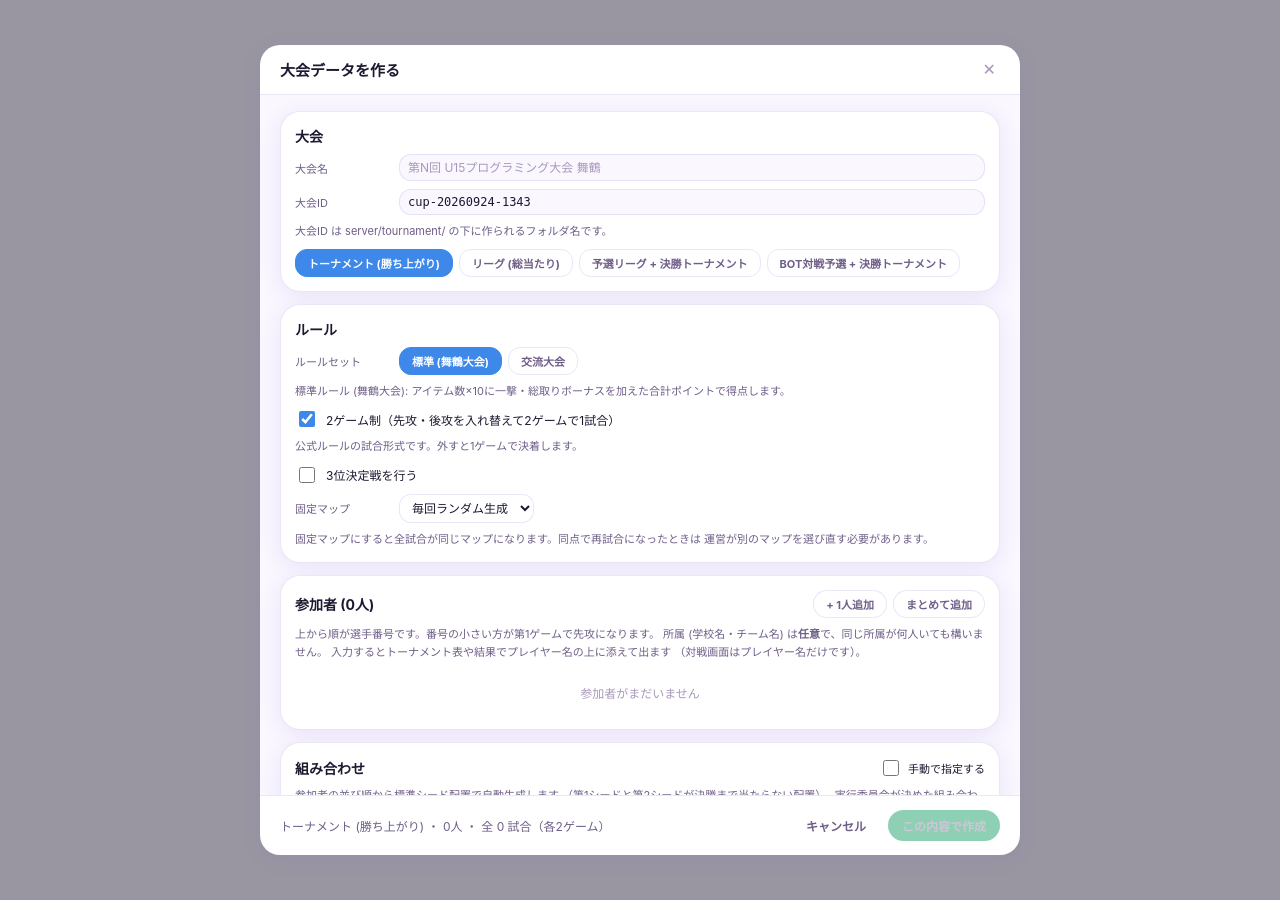
Scenario: TournamentEditorDialog — 新規作成 › プログラム由来のプレイヤー名 › 空欄の行にプログラムを選ぶと、プログラムが名乗る名前が初期値として入る
Click the button "+ 1人追加". click: (850, 604)
box: top-left (813, 590), bottom-right (887, 618)
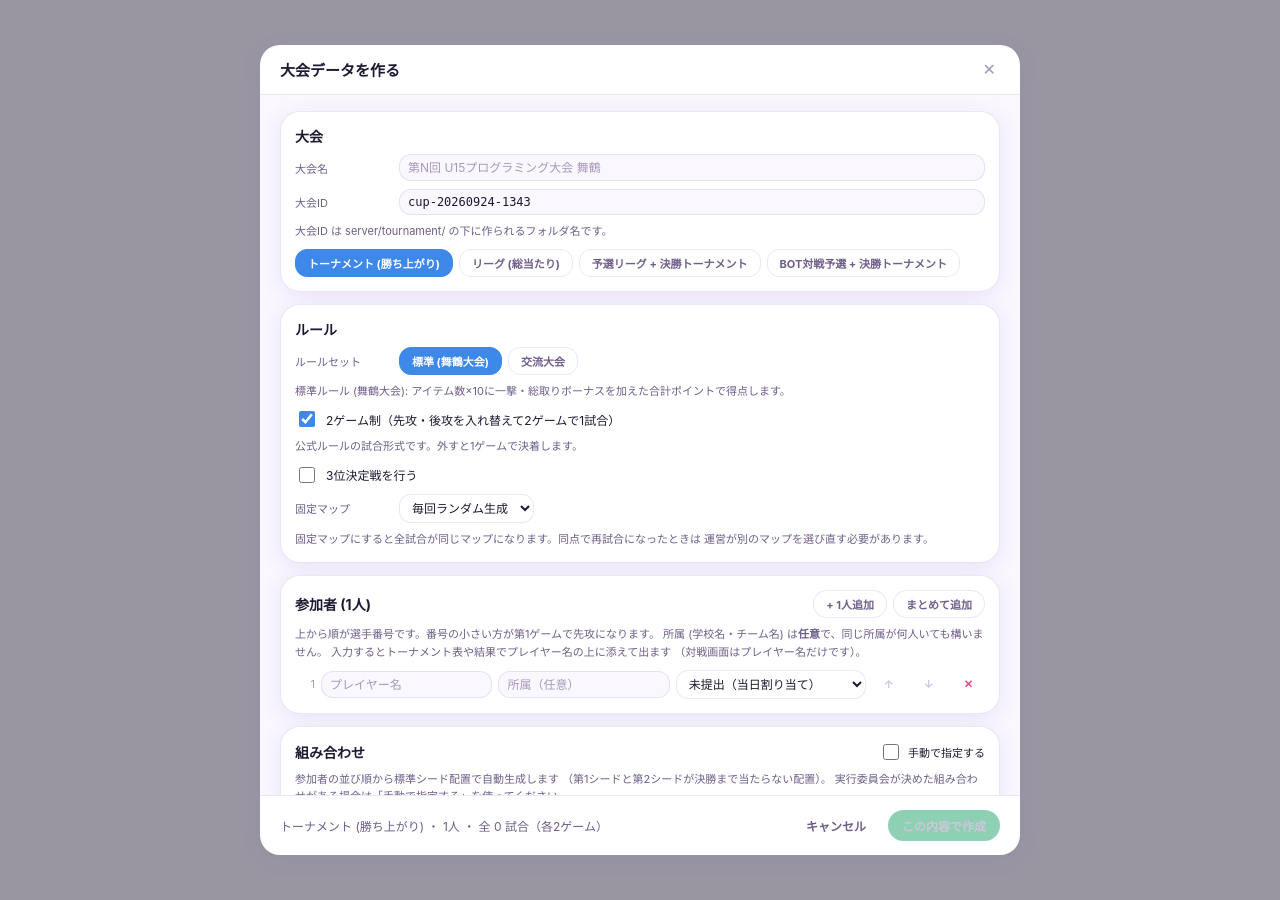
Select "舞鶴A v3" in the dropdown named "参加者1 のプログラム". click: (771, 684)
box: top-left (676, 670), bottom-right (866, 699)
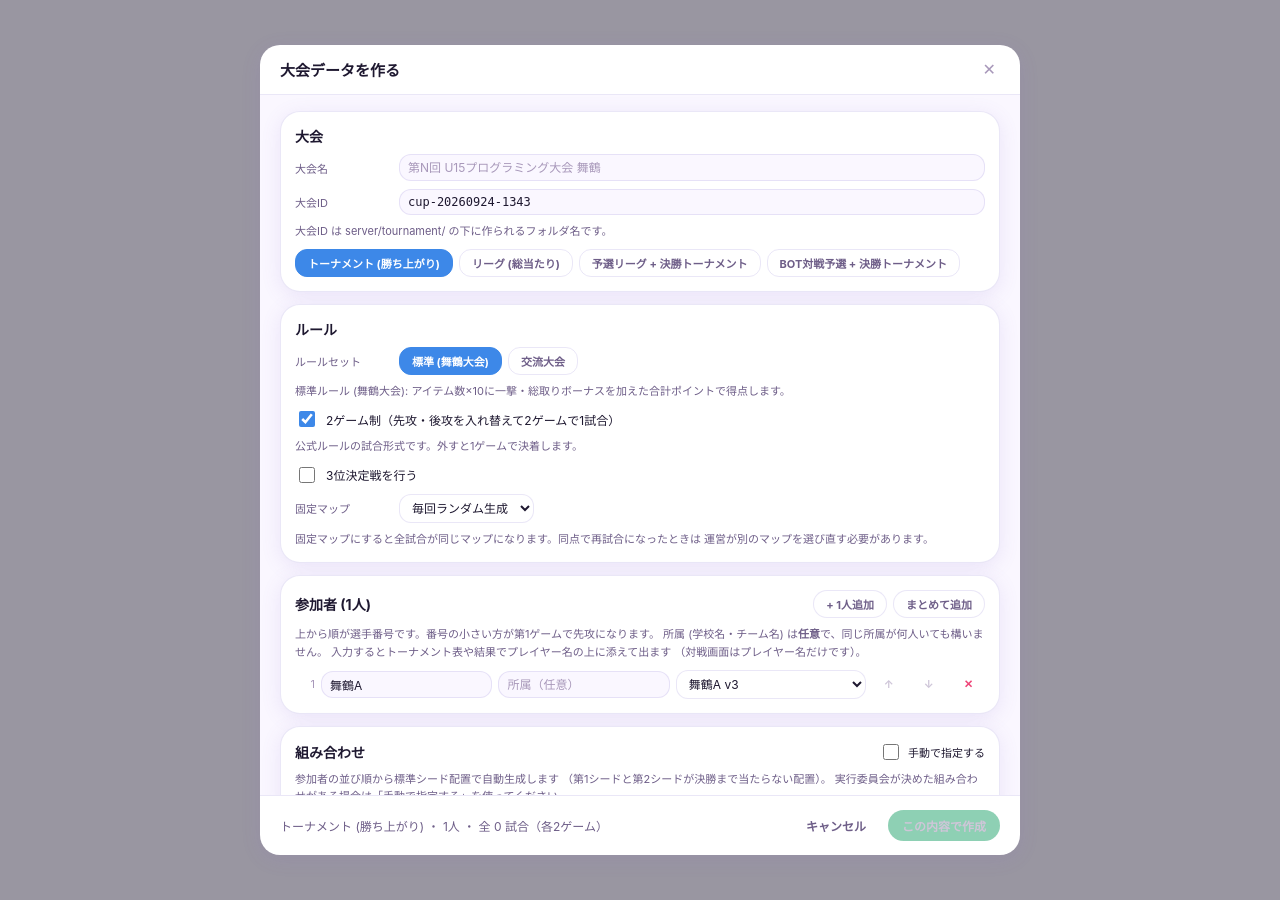
Result: the field named "参加者1 の名前" holds "舞鶴A" at top-left (321, 671), bottom-right (492, 698)
